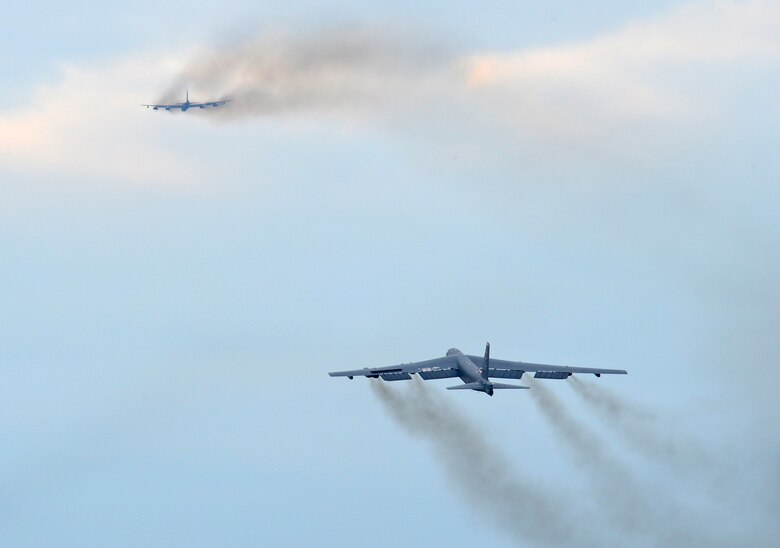B52: (327, 340, 629, 397), (139, 88, 233, 113)
